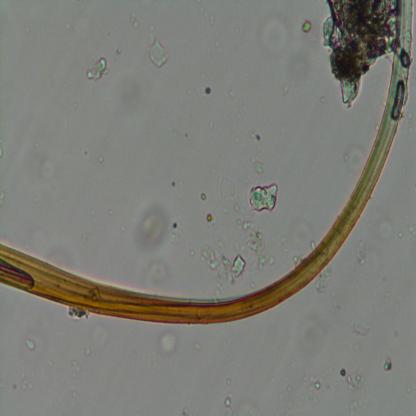Background material: (322, 0, 396, 112), (197, 238, 245, 288), (237, 218, 274, 270), (136, 202, 175, 246), (259, 13, 292, 58), (247, 180, 279, 216), (367, 218, 399, 247), (302, 372, 336, 397), (148, 37, 171, 71), (150, 251, 174, 281), (338, 367, 368, 391), (82, 56, 110, 81), (158, 328, 178, 358), (221, 368, 234, 414), (122, 12, 148, 35), (348, 147, 368, 175), (243, 127, 269, 148), (70, 358, 86, 392), (247, 158, 272, 178), (218, 173, 235, 202), (356, 236, 371, 267), (289, 57, 306, 84), (316, 269, 334, 292), (82, 341, 100, 360), (350, 321, 370, 336), (22, 336, 37, 352), (301, 18, 314, 34), (226, 85, 238, 100), (382, 356, 392, 372), (203, 82, 212, 95), (206, 210, 214, 223)
Natural material: (0, 0, 414, 323)
